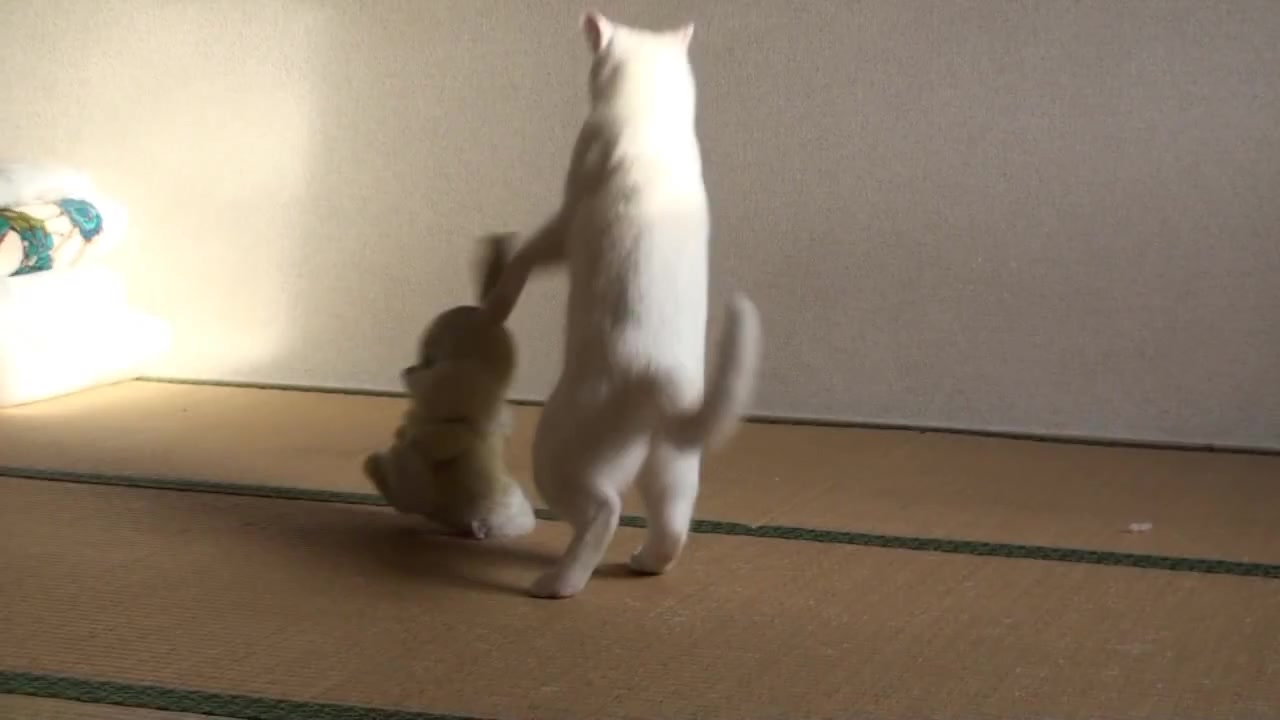cat: (480, 10, 770, 602)
